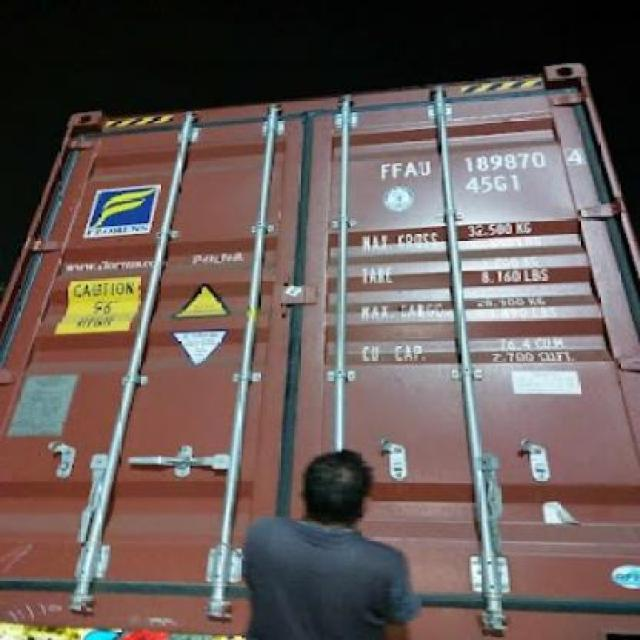ISO: (465, 176, 523, 193)
container_number: (373, 144, 583, 184)
